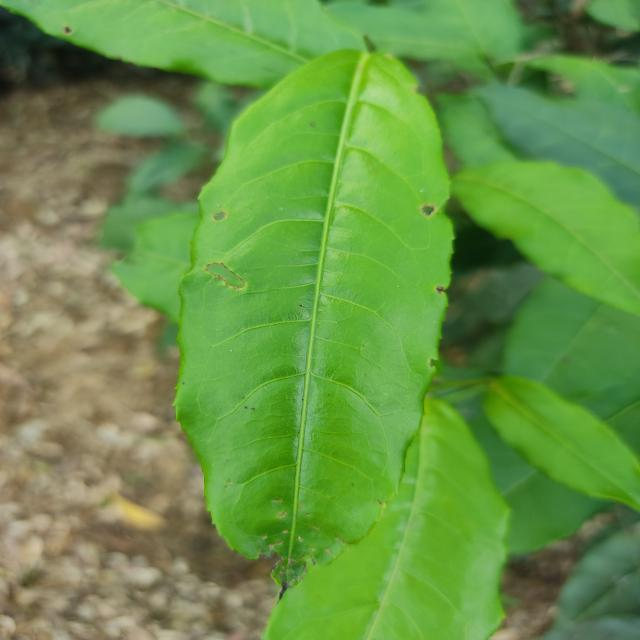Category D(7+ days, Not for Tea): (163, 34, 462, 592)
